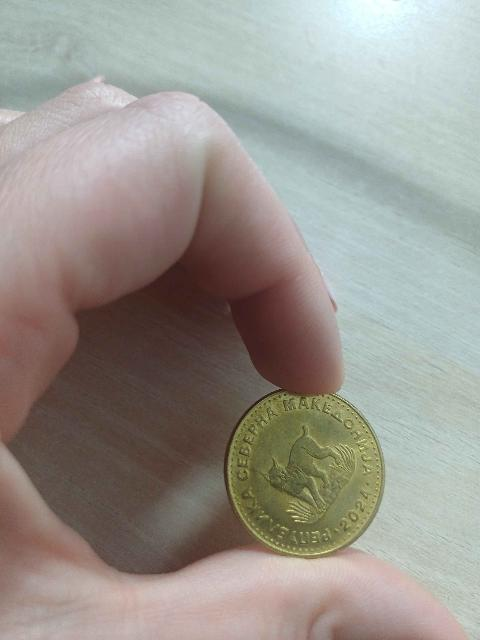coin: (225, 390, 384, 557)
